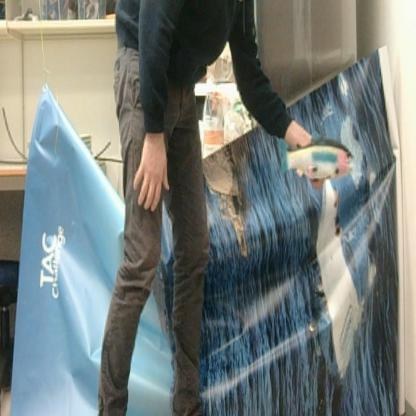rubberfish: (278, 132, 354, 183)
